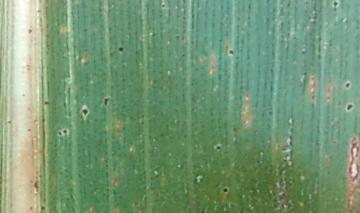tarspot: (332, 1, 339, 11), (33, 180, 38, 193), (103, 97, 110, 106), (81, 108, 88, 116), (345, 104, 353, 110), (43, 100, 49, 106), (345, 82, 350, 89), (118, 47, 124, 52), (57, 131, 62, 136), (28, 29, 32, 34), (26, 128, 31, 132), (229, 49, 233, 54), (161, 3, 165, 8), (6, 120, 12, 123), (223, 187, 226, 193), (62, 129, 66, 133), (21, 93, 25, 96), (216, 146, 219, 150), (41, 207, 44, 210)
